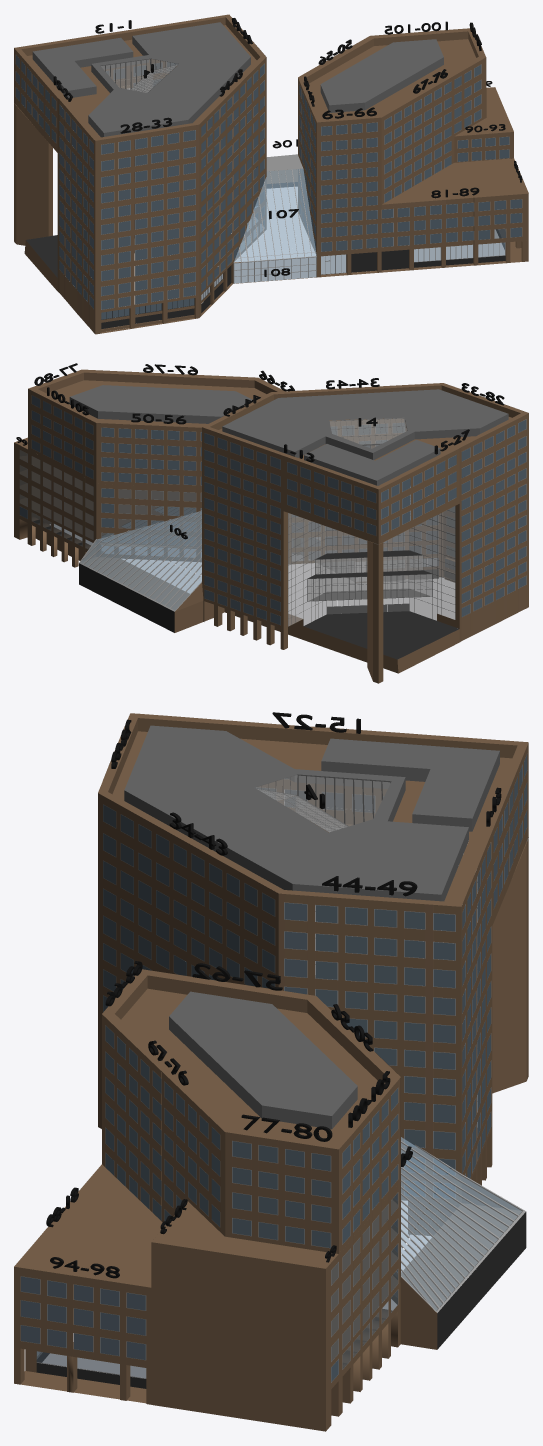
File: 1LondonBridgeSite.glb
The picture shows the model from 3 angles, top to bottom: view 1: azimuth 30°, elevation 25°; view 2: azimuth 150°, elevation 25°; view 3: azimuth 270°, elevation 25°; orthographic projection. The views are drawn at different scales.
Visible parts, largest first — view 1: 1London Bridge.010, Drop107, Drop108, Drop28, Drop31, Drop30, Drop33, Drop29, Drop32, Drop64, Drop66, Drop65 (+25 smaller); view 2: 1London Bridge.010, Drop14, Drop106, Drop6, Drop3, Drop4, Drop5, Drop1, Drop22, Drop2, Drop27, Drop24 (+16 smaller); view 3: 1London Bridge.010, Drop106, Drop49, Drop48, Drop47, Drop46, Drop34, Drop45, Drop35, Drop44, Drop77, Drop79 (+25 smaller).
Boxes of the visible parts, x1,y1,x2,y2 form: 1London Bridge.010: (14,14,528,334); Drop107: (234,168,316,262); Drop108: (234,257,315,283); Drop28: (101,143,113,309); Drop31: (151,135,163,301); Drop30: (135,138,147,304); Drop33: (183,130,195,296); Drop29: (119,140,130,306); Drop32: (167,133,178,299); Drop64: (336,125,347,250); Drop66: (366,122,377,248); Drop65: (351,124,362,249); 1London Bridge.010: (14,369,528,683); Drop14: (308,418,431,614); Drop106: (81,507,201,609); Drop6: (270,456,280,624); Drop3: (230,442,240,610); Drop4: (243,447,253,615); Drop5: (257,451,266,619); Drop1: (204,433,213,601); Drop22: (461,448,470,616); Drop2: (218,438,226,605); Drop27: (518,420,526,588); Drop24: (485,436,493,605); 1London Bridge.010: (14,713,528,1431); Drop106: (397,1137,521,1310); Drop49: (433,913,455,1149); Drop48: (404,911,424,1147); Drop47: (374,909,396,1065); Drop46: (345,907,367,1036); Drop34: (103,805,115,1011); Drop45: (316,905,337,1006); Drop35: (121,814,133,989); Drop44: (284,903,306,994); Drop77: (232,1141,251,1235); Drop79: (285,1149,304,1243).
Size of the model in its own units: 42.23 by 18.04 by 23.91.
